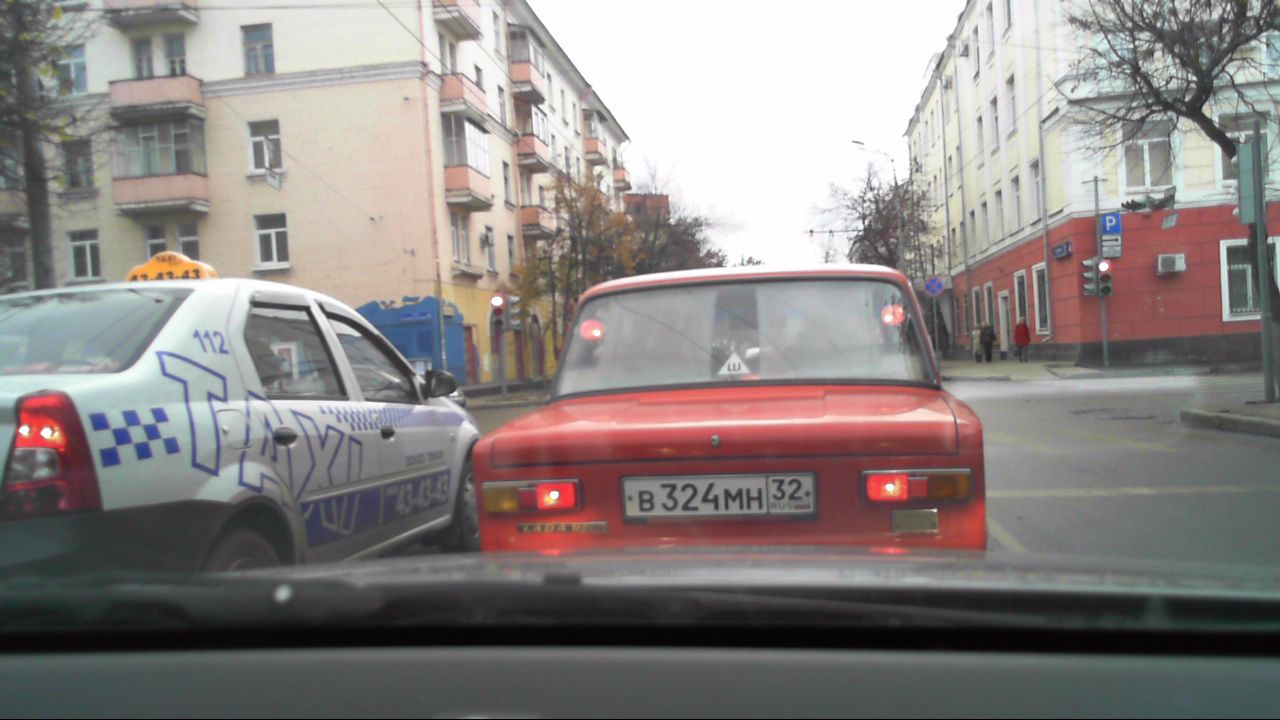No Parking: (921, 273, 945, 296)
